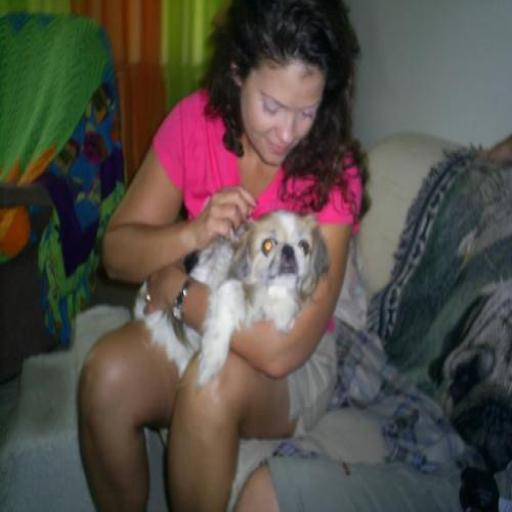dog_face: (229, 208, 336, 300)
